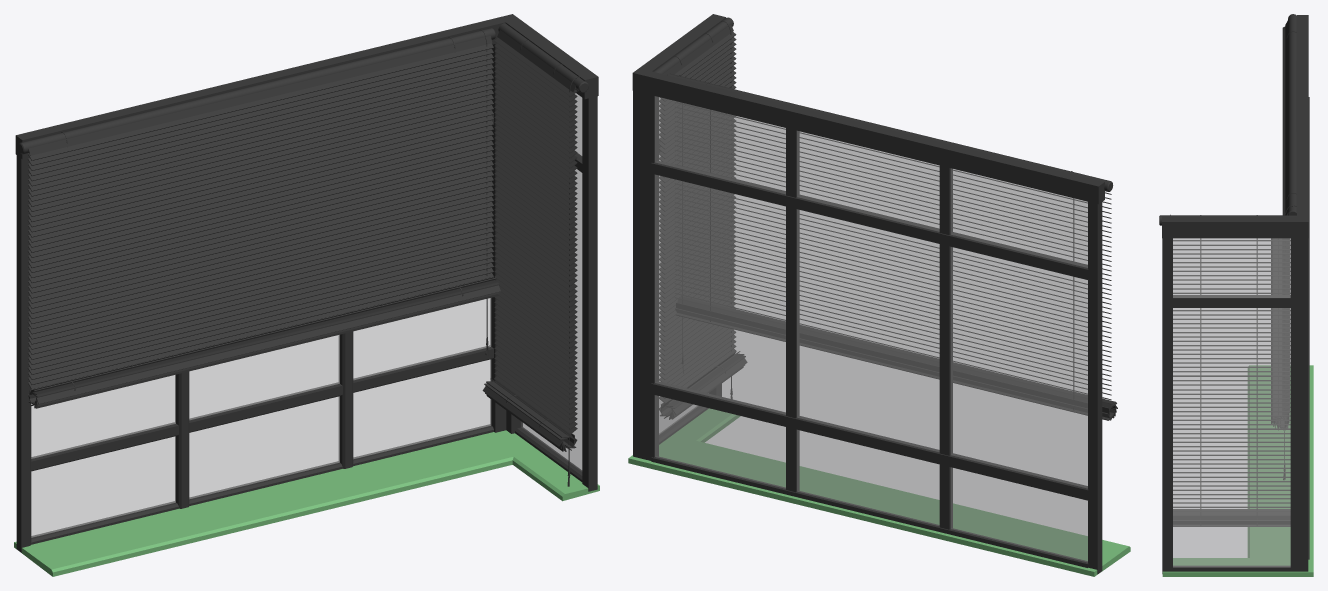
Rendered from Bedroom_Veranda_90M.FBX.
3 views of the same model, side by side, from view 1: azimuth 30°, elevation 25°; view 2: azimuth 150°, elevation 25°; view 3: azimuth 270°, elevation 25° (orthographic). The views are drawn at different scales.
Visible parts, largest first — view 1: Bedroom_Veranda_90M; view 2: Bedroom_Veranda_90M; view 3: Bedroom_Veranda_90M.
Part boxes in pixels (x1,y1,x2,y2): Bedroom_Veranda_90M: (14,14,599,576); Bedroom_Veranda_90M: (628,14,1130,576); Bedroom_Veranda_90M: (1159,14,1313,576).
Bounding box in the file's own units: 194 × 60.27 × 153.
